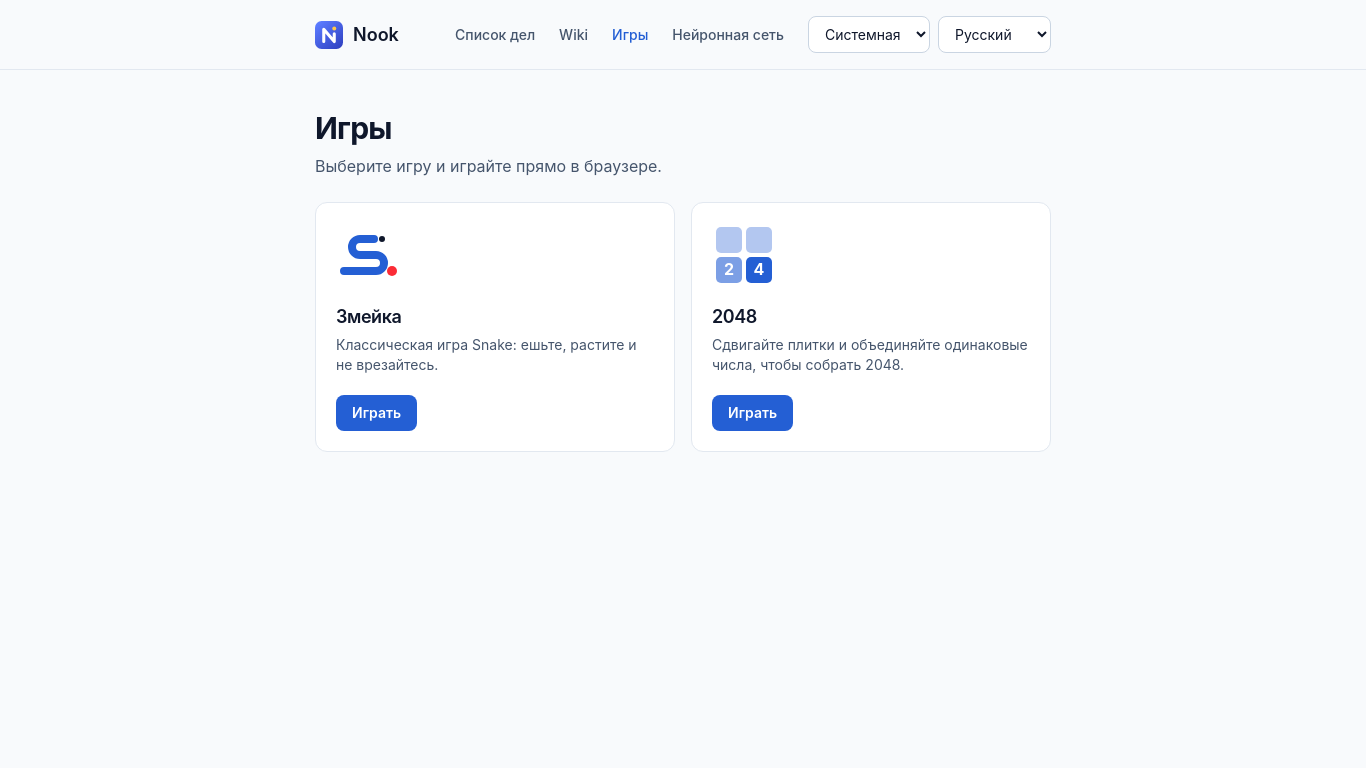
games pages › opens 2048 from its card
What coordinates should you click on to do the following:
click the link with aria-label "играть: 2048"
I would click on:
 (753, 413)
Its box is x1=712 y1=395 x2=793 y2=431.
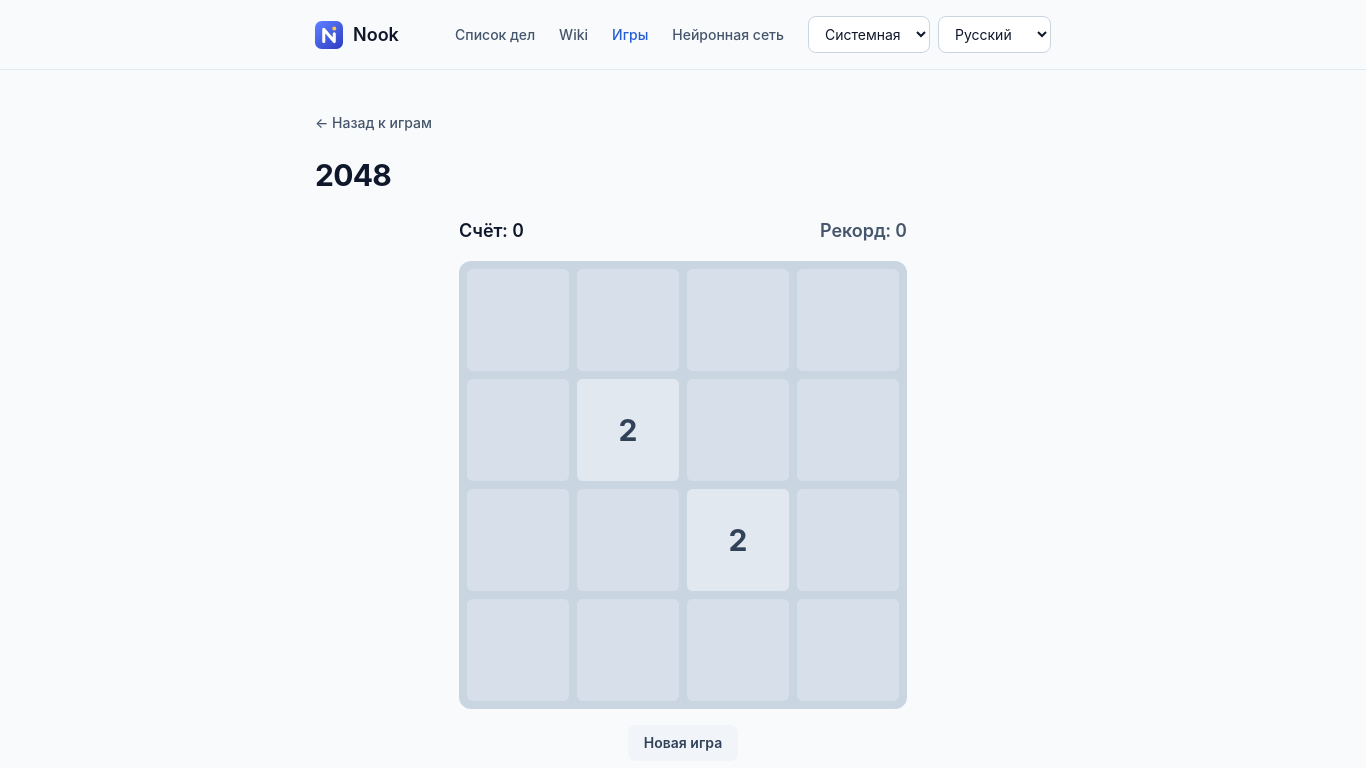
Check: the heading "2048" is shown, box x1=315 y1=157 x2=391 y2=193
Check: the list named "Игровое поле" is shown, box x1=577 y1=379 x2=789 y2=591
Check: the text "Счёт: 0" is shown, box x1=459 y1=217 x2=524 y2=245
